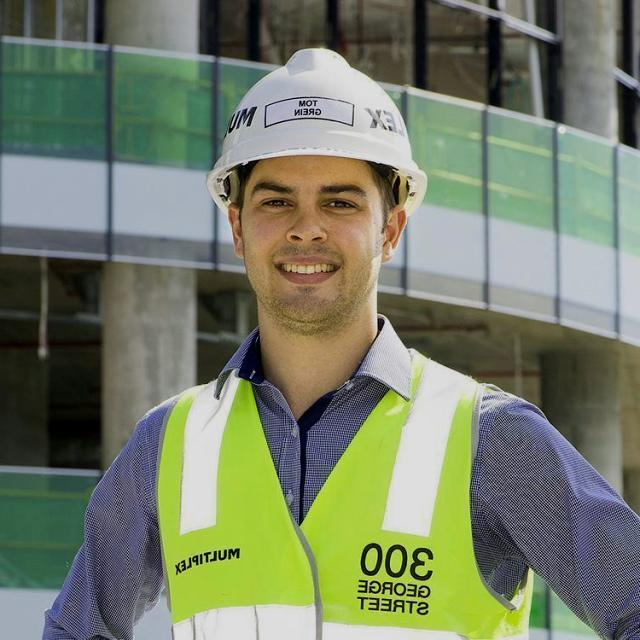face_nomask: (233, 159, 400, 325)
head_helmet: (212, 45, 425, 208)
person: (41, 35, 622, 640)
vest: (154, 364, 516, 640)
